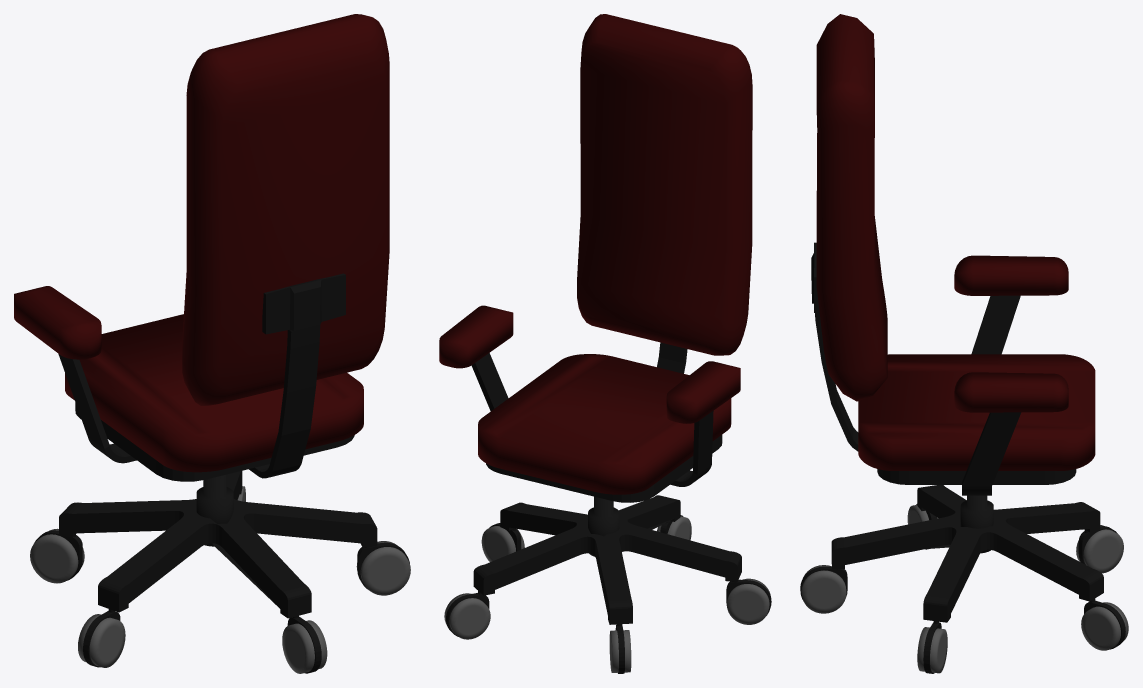
The model's file is silla.gltf.
3 views of the same model, side by side, from view 1: azimuth 30°, elevation 25°; view 2: azimuth 150°, elevation 25°; view 3: azimuth 270°, elevation 25° (orthographic). The views are drawn at different scales.
Parts seen in each view (by area): view 1: Grupo_de_sillas.001; view 2: Grupo_de_sillas.001; view 3: Grupo_de_sillas.001.
Boxes of the visible parts, x1,y1,x2,y2 form: Grupo_de_sillas.001: (14, 14, 410, 673); Grupo_de_sillas.001: (439, 14, 771, 673); Grupo_de_sillas.001: (800, 14, 1128, 673).
Size of the model in its own units: 0.2316 by 0.4185 by 0.222.
